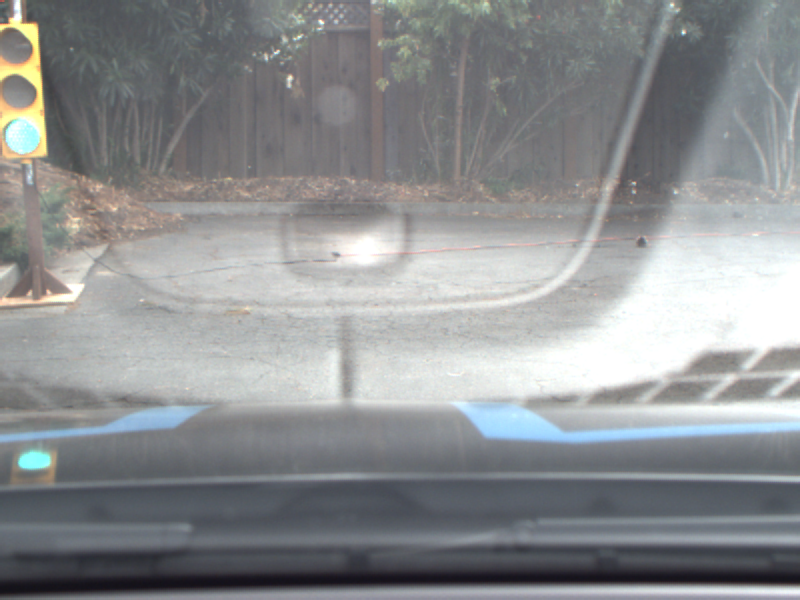green: (1, 24, 47, 159)
